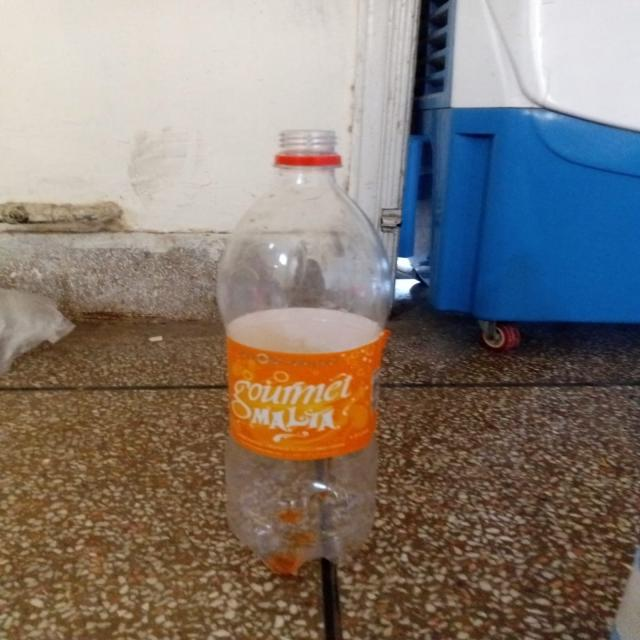bottle: (200, 114, 402, 580)
label: (214, 322, 386, 457)
